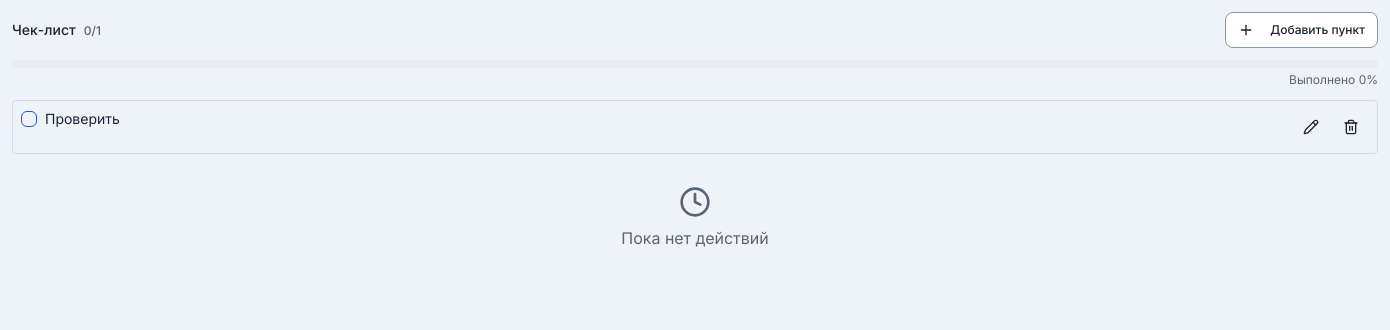
Scenario: checklist-add history refresh › refreshes only after a successful server response (success=true)
The image size is (1390, 330).
Expected: the text "Пока нет действий" is shown, [621,226,769,250]
Click the button "Добавить пункт" at coordinates (1302, 30), box [1225,12,1378,48]
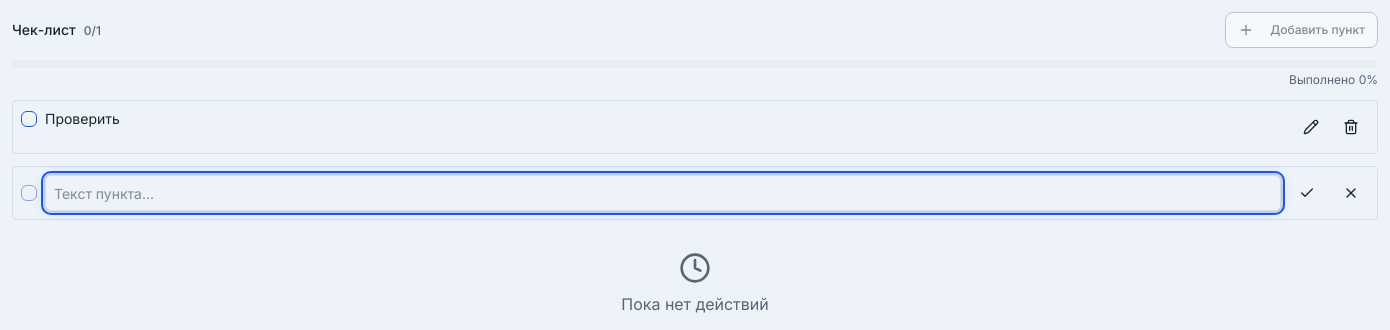
Type "Новый пункт" into the field with placeholder "Текст пункта..." at coordinates (663, 193), box [45,175,1281,211]
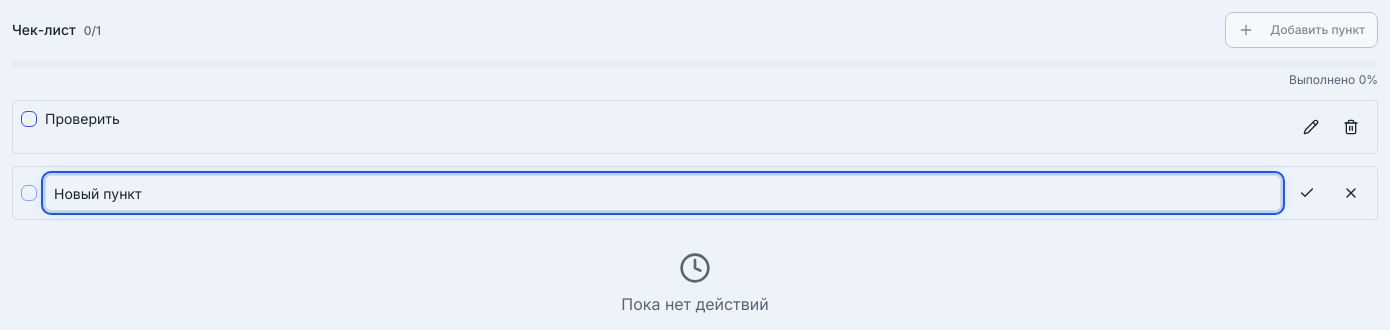
Click the button named "Добавить элемент" at coordinates (1307, 193), box [1289,175,1325,211]
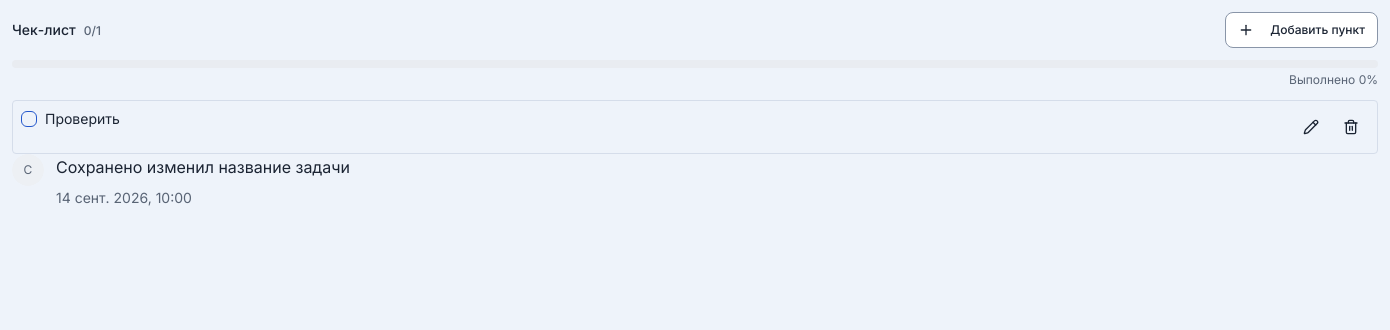
Expected: the text "Сохранено изменил название задачи" is shown, [56,157,350,177]
